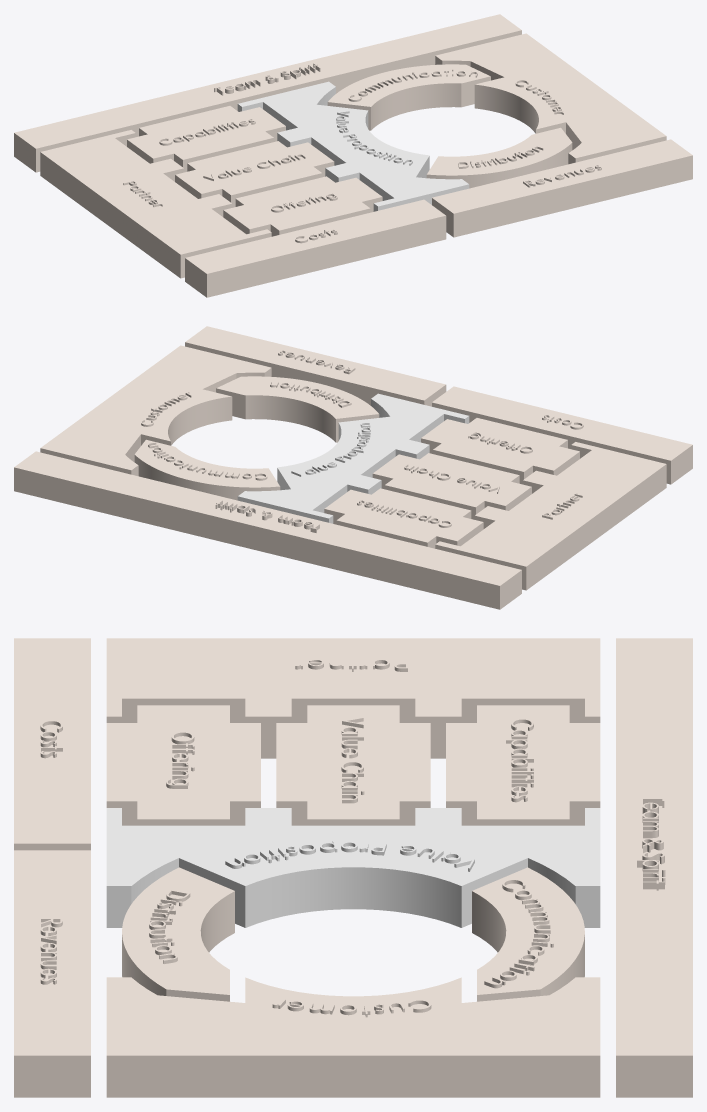
File: 20250822_Canvas.glb
3 renders of one model, top to bottom at view 1: azimuth 30°, elevation 25°; view 2: azimuth 150°, elevation 25°; view 3: azimuth 270°, elevation 25°, orthographic. The views are drawn at different scales.
Visible parts, largest first — view 1: 20250730_Partner-1, 20250730_Team-1, 20250730_Customer-1, 20250730_Costs-1, 20250730_Revenues-1, 20250730_Value Proposition_v3-1, 20250730_Capabilities-1, 20250730_Value Chain-1, 20250730_Offering-1, 20250730_Communication-1, 20250730_Distribution-1; view 2: 20250730_Team-1, 20250730_Partner-1, 20250730_Customer-1, 20250730_Value Proposition_v3-1, 20250730_Revenues-1, 20250730_Costs-1, 20250730_Offering-1, 20250730_Value Chain-1, 20250730_Capabilities-1, 20250730_Distribution-1, 20250730_Communication-1; view 3: 20250730_Customer-1, 20250730_Value Proposition_v3-1, 20250730_Partner-1, 20250730_Team-1, 20250730_Revenues-1, 20250730_Value Chain-1, 20250730_Capabilities-1, 20250730_Offering-1, 20250730_Costs-1, 20250730_Distribution-1, 20250730_Communication-1.
Boxes of the visible parts, bbox=[...] form: 20250730_Partner-1: bbox=[40, 130, 271, 278]; 20250730_Team-1: bbox=[14, 14, 521, 172]; 20250730_Customer-1: bbox=[435, 33, 666, 164]; 20250730_Costs-1: bbox=[185, 199, 446, 297]; 20250730_Revenues-1: bbox=[432, 139, 692, 237]; 20250730_Value Proposition_v3-1: bbox=[237, 81, 469, 211]; 20250730_Capabilities-1: bbox=[127, 106, 285, 172]; 20250730_Value Chain-1: bbox=[175, 141, 334, 207]; 20250730_Offering-1: bbox=[223, 176, 382, 236]; 20250730_Communication-1: bbox=[327, 64, 490, 130]; 20250730_Distribution-1: bbox=[426, 127, 572, 188]; 20250730_Team-1: bbox=[14, 451, 521, 609]; 20250730_Partner-1: bbox=[435, 442, 666, 590]; 20250730_Customer-1: bbox=[40, 345, 271, 476]; 20250730_Value Proposition_v3-1: bbox=[237, 393, 469, 523]; 20250730_Revenues-1: bbox=[185, 326, 446, 406]; 20250730_Costs-1: bbox=[432, 386, 692, 484]; 20250730_Offering-1: bbox=[421, 418, 579, 484]; 20250730_Value Chain-1: bbox=[372, 453, 531, 519]; 20250730_Capabilities-1: bbox=[324, 488, 483, 548]; 20250730_Distribution-1: bbox=[216, 376, 379, 442]; 20250730_Communication-1: bbox=[134, 439, 280, 500]; 20250730_Customer-1: bbox=[106, 977, 600, 1097]; 20250730_Value Proposition_v3-1: bbox=[106, 808, 600, 927]; 20250730_Partner-1: bbox=[106, 638, 600, 758]; 20250730_Team-1: bbox=[616, 638, 692, 1097]; 20250730_Revenues-1: bbox=[14, 850, 90, 1097]; 20250730_Value Chain-1: bbox=[276, 705, 430, 825]; 20250730_Capabilities-1: bbox=[446, 705, 600, 825]; 20250730_Offering-1: bbox=[106, 705, 260, 825]; 20250730_Costs-1: bbox=[14, 638, 90, 850]; 20250730_Distribution-1: bbox=[122, 867, 234, 1001]; 20250730_Communication-1: bbox=[472, 867, 584, 1001].
Bounding box in the file's own units: 1.28 × 0.07 × 0.88.
